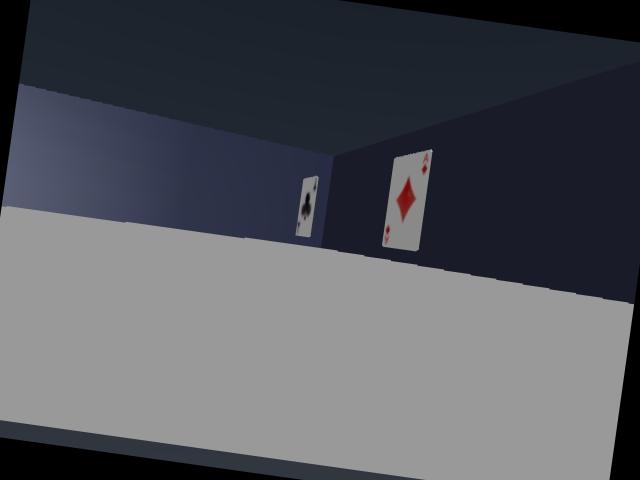club: (295, 176, 318, 236)
diamond: (382, 150, 431, 250)
